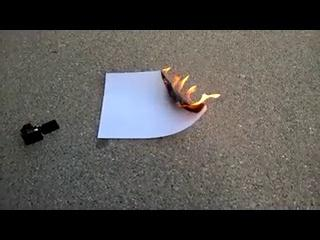Fire: (159, 64, 224, 111)
